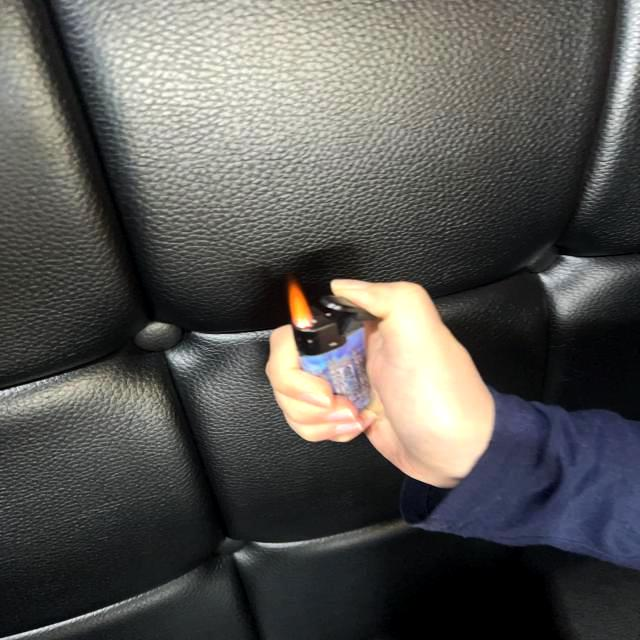fire: (286, 281, 318, 327)
